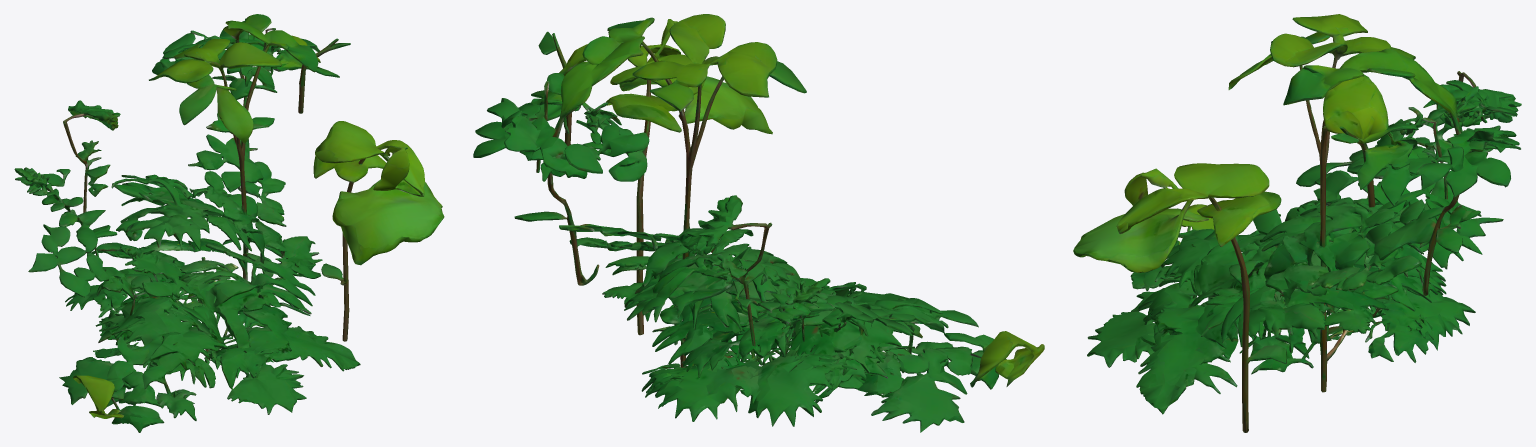
File: fallen-log.glb
3 renders of one model, left to right at view 1: azimuth 30°, elevation 25°; view 2: azimuth 150°, elevation 25°; view 3: azimuth 270°, elevation 25°, orthographic. The views are drawn at different scales.
Parts seen in each view (by area): view 1: geometry_0; view 2: geometry_0; view 3: geometry_0.
Part boxes in pixels (box(x1,y1,x2,y2)): geometry_0: box(14, 14, 444, 432); geometry_0: box(473, 14, 1044, 432); geometry_0: box(1073, 14, 1521, 432).
Size of the model in its own units: 0.7995 by 0.6554 by 0.7537.
Materials: 1 (1 with a texture image).
